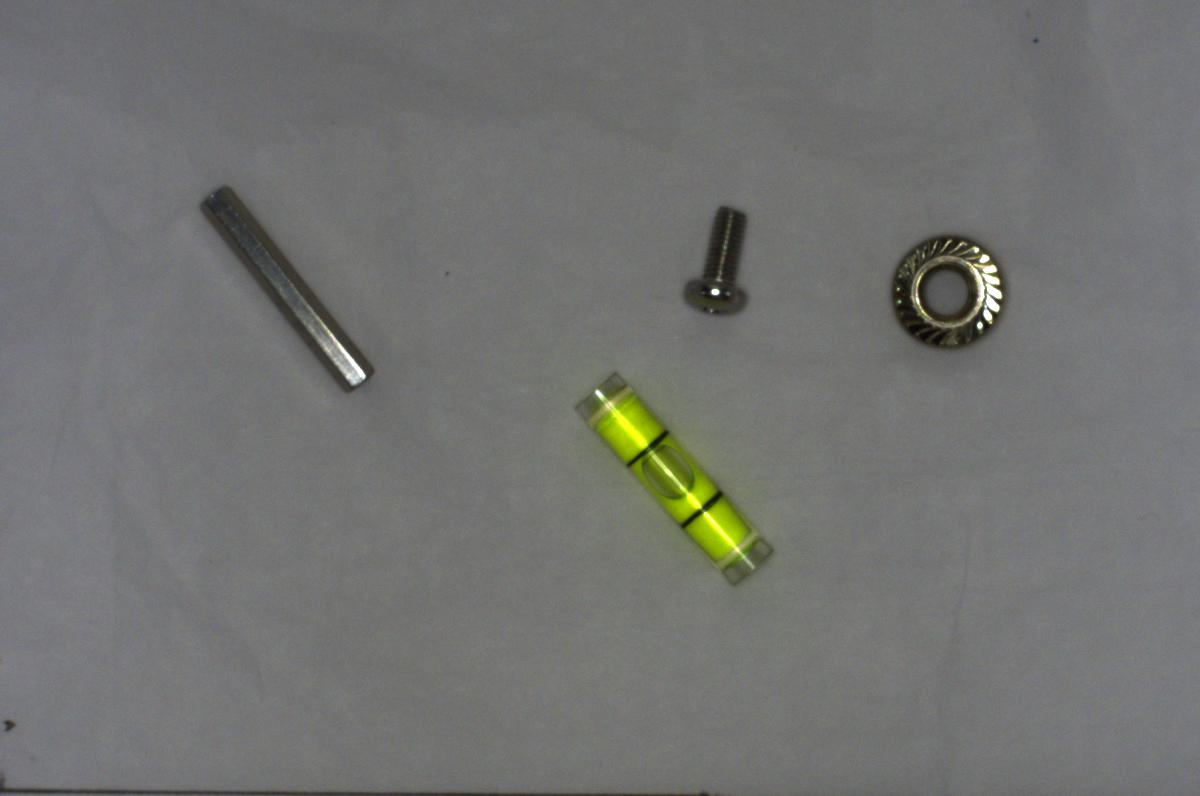Double hexagonal column: (202, 180, 375, 402)
Flange nut: (885, 226, 1012, 349)
Horizontal bubble: (574, 368, 778, 582)
Round head screw: (673, 202, 753, 315)
